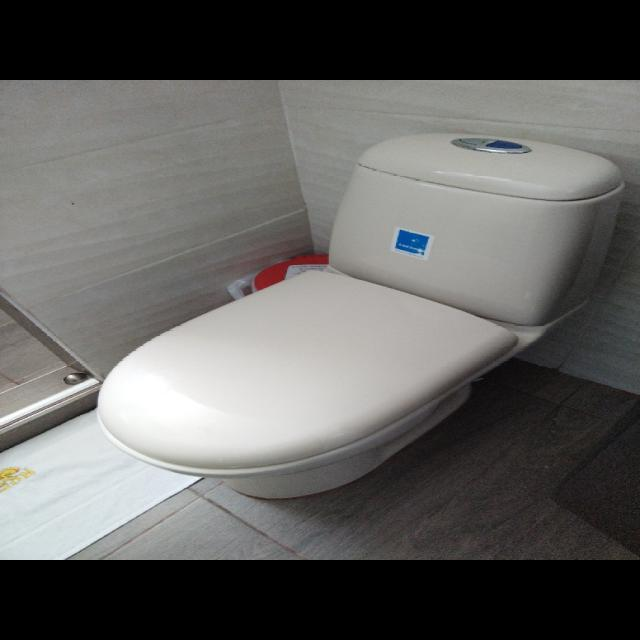toilet: (83, 123, 638, 507)
